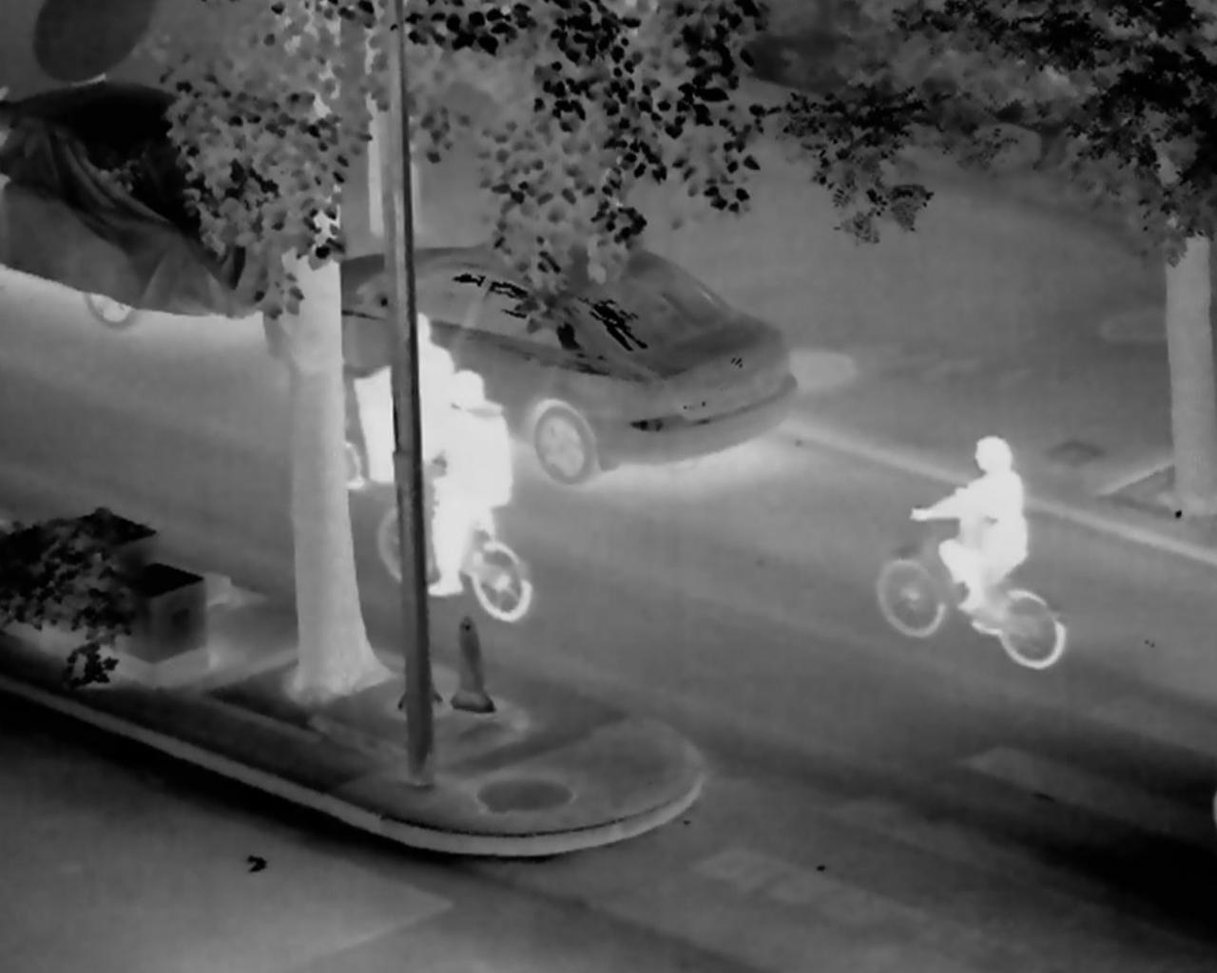person: (908, 438, 1031, 626), (419, 369, 512, 597), (351, 308, 452, 486)
